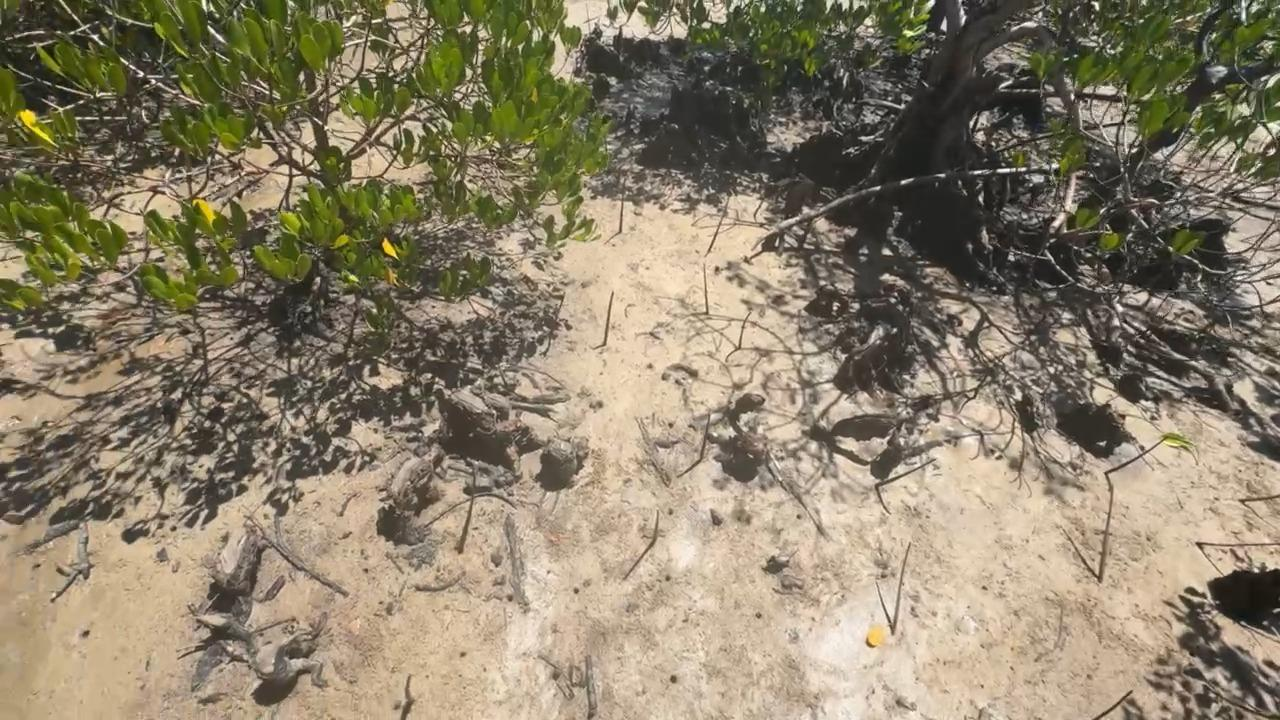Tree: (1104, 433, 1200, 475), (890, 542, 912, 634), (457, 463, 476, 552), (876, 459, 936, 487), (542, 292, 565, 355), (1098, 486, 1113, 581), (1092, 689, 1133, 720), (707, 197, 729, 252), (603, 292, 614, 344), (619, 176, 628, 233), (1196, 541, 1280, 547), (700, 413, 710, 460), (1238, 494, 1280, 503), (703, 265, 709, 313), (405, 673, 414, 703), (754, 193, 765, 217), (651, 509, 659, 542)
